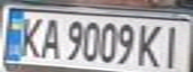0: (81, 18, 103, 63), (100, 19, 118, 64)
9: (115, 20, 139, 66), (60, 17, 84, 62)
A: (36, 15, 63, 61)
I: (157, 21, 190, 71)
K: (136, 21, 166, 70), (15, 13, 45, 60)
